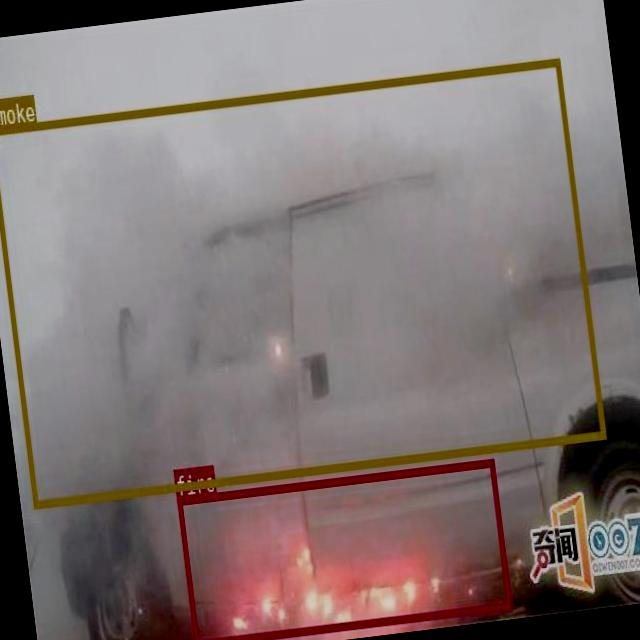fire: (175, 457, 510, 640)
smoke: (0, 56, 605, 505)
